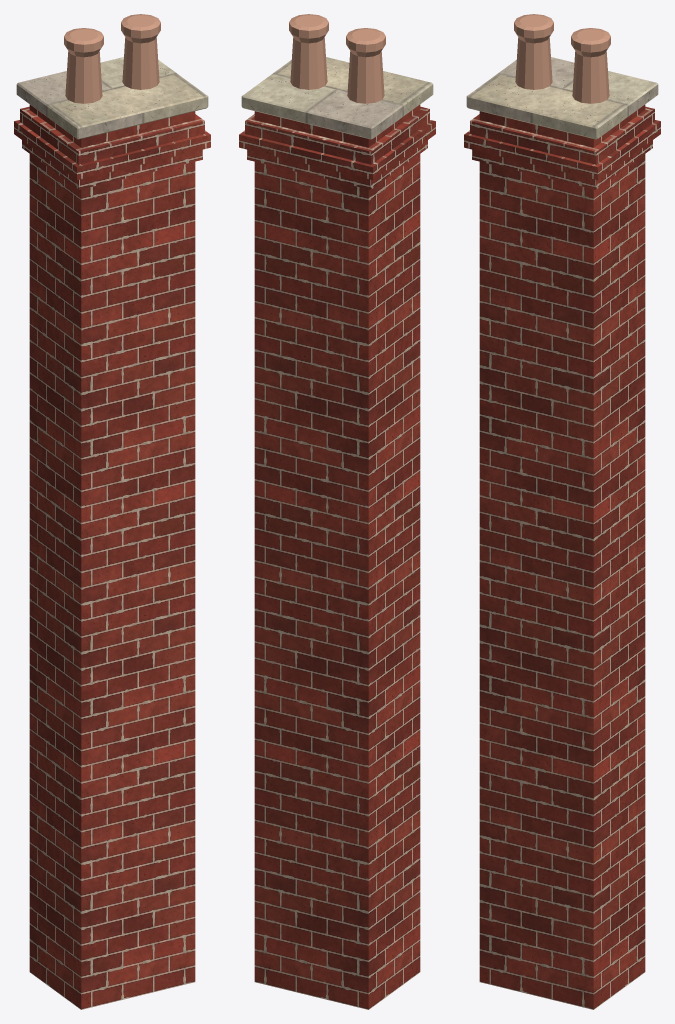
File: chimney_roof.glb
The picture shows the model from 3 angles, left to right: view 1: azimuth 30°, elevation 25°; view 2: azimuth 150°, elevation 25°; view 3: azimuth 330°, elevation 25°; orthographic projection.
Visible parts, largest first — view 1: chimney_roof_brick, chimney_roof_stone_t, chimney_roof_clay; view 2: chimney_roof_brick, chimney_roof_stone_t, chimney_roof_clay; view 3: chimney_roof_brick, chimney_roof_stone_t, chimney_roof_clay.
Part boxes in pixels (x1,y1,x2,y2): chimney_roof_brick: (14,104,210,1009); chimney_roof_stone_t: (16,57,208,139); chimney_roof_clay: (64,14,160,103); chimney_roof_brick: (239,104,435,1009); chimney_roof_stone_t: (241,57,433,139); chimney_roof_clay: (289,14,385,103); chimney_roof_brick: (464,104,660,1009); chimney_roof_stone_t: (466,57,658,139); chimney_roof_clay: (514,14,610,103).
Bounding box in the file's own units: 1.08 × 7.32 × 0.88.
3 materials, 2 textured.
